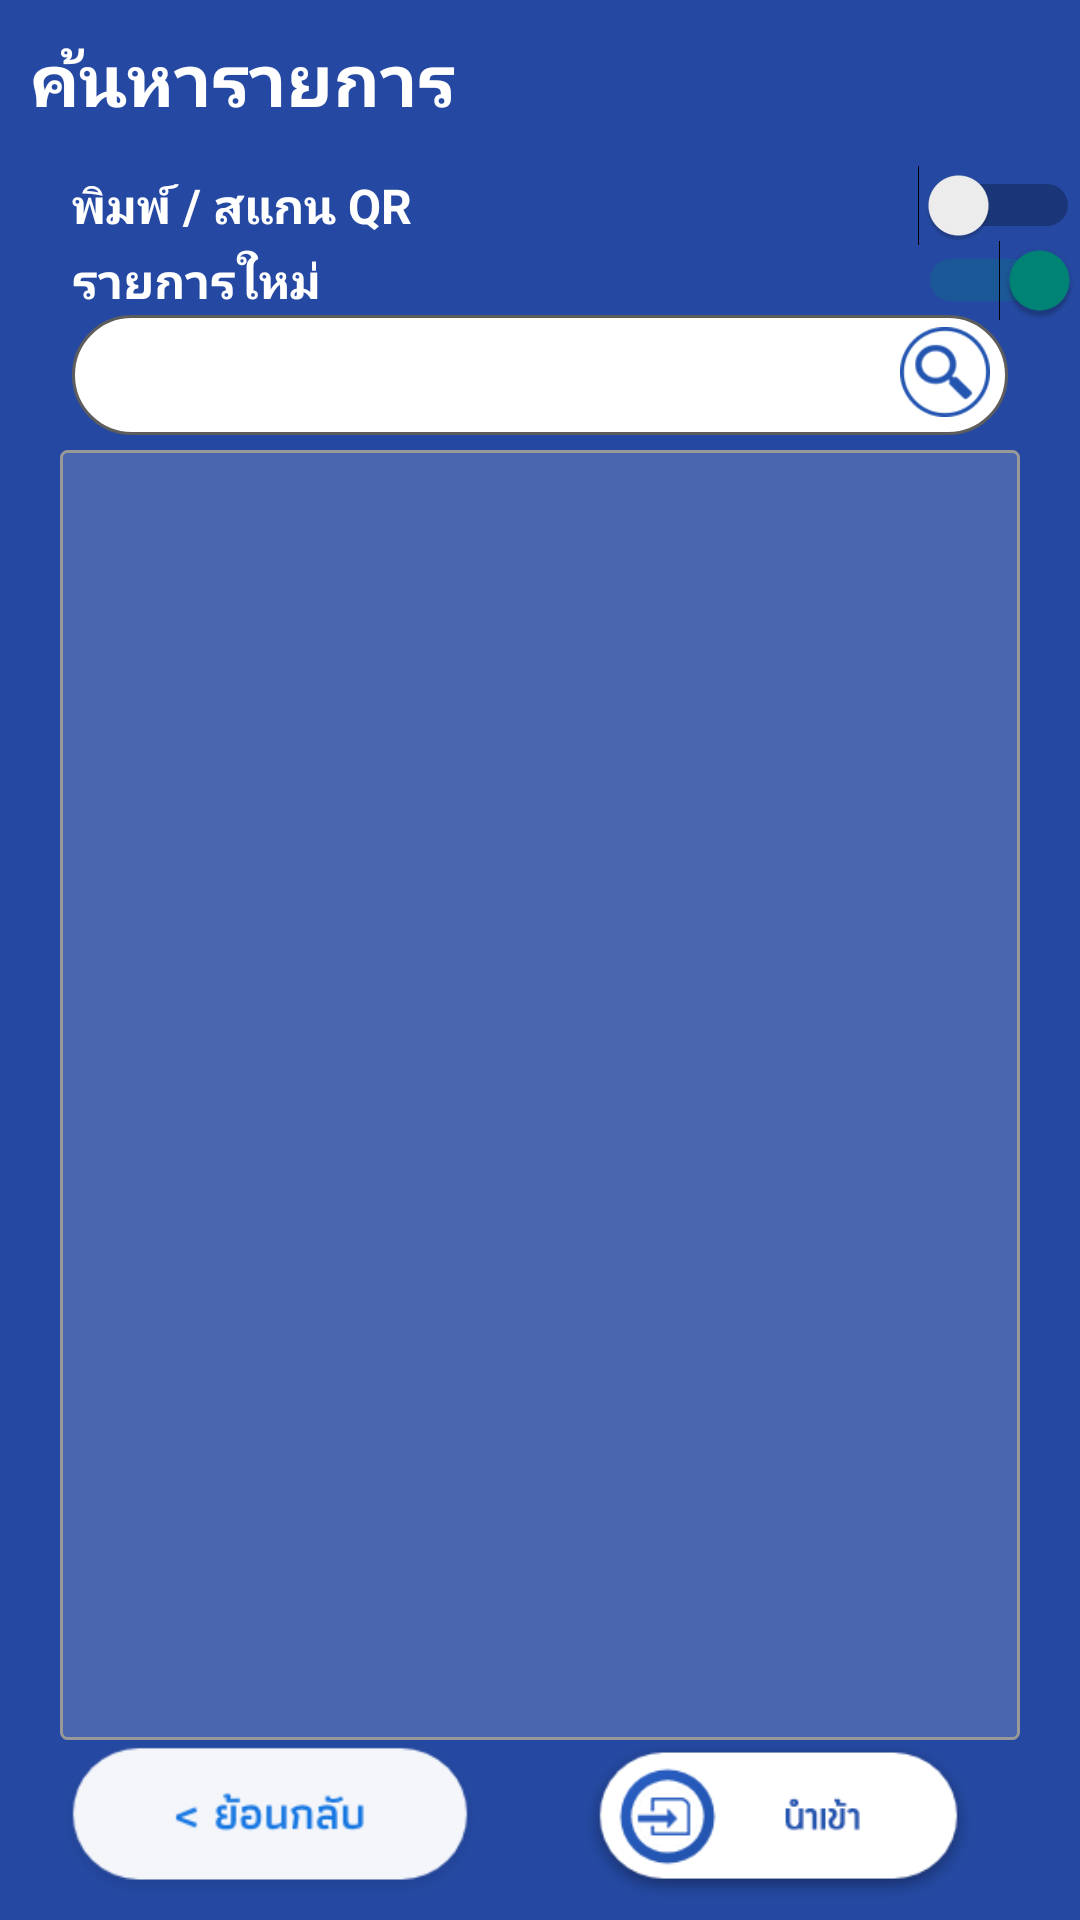

Icons on this 1080w x 1920h Android screen, each with the point to tap as (x,y):
search: (945,372)
